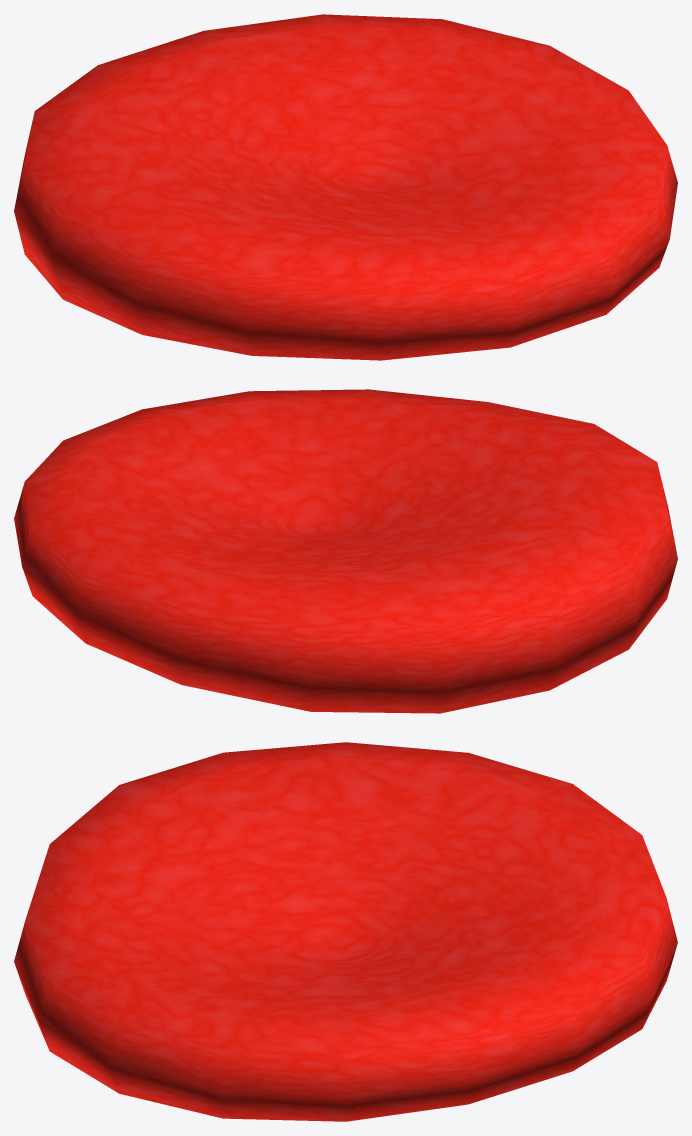
The model's file is RBC.fbx.
3 renders of one model, top to bottom at view 1: azimuth 30°, elevation 25°; view 2: azimuth 150°, elevation 25°; view 3: azimuth 270°, elevation 25°, orthographic. The views are drawn at different scales.
Parts seen in each view (by area): view 1: Sphere; view 2: Sphere; view 3: Sphere.
Part boxes in pixels (x1=…): Sphere: x1=14, y1=14, x2=677, y2=360; Sphere: x1=14, y1=389, x2=677, y2=713; Sphere: x1=14, y1=742, x2=677, y2=1121.
Bounding box in the file's own units: 3.34 × 0.6088 × 3.15.
